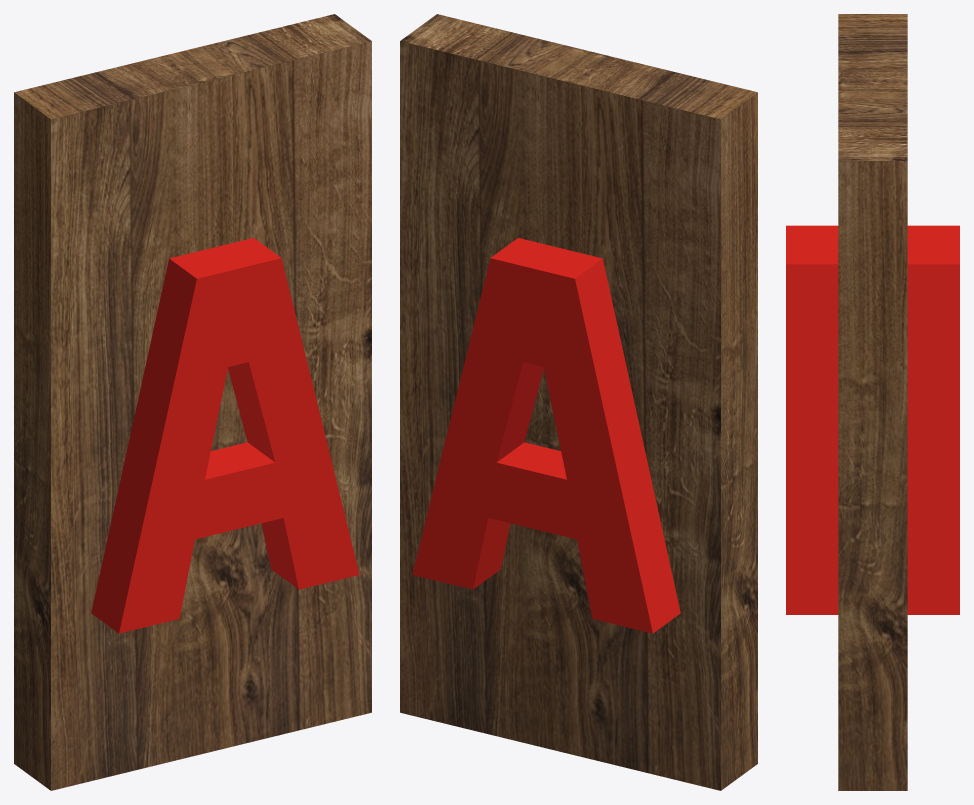
File: wood_A.fbx
The picture shows the model from 3 angles, left to right: view 1: azimuth 30°, elevation 25°; view 2: azimuth 150°, elevation 25°; view 3: azimuth 270°, elevation 25°; orthographic projection. The views are drawn at different scales.
Visible parts, largest first — view 1: Box001, Box003; view 2: Box001, Box003; view 3: Box001, Box003.
Boxes of the visible parts, x1,y1,x2,y2 form: Box001: (14, 14, 371, 790); Box003: (91, 238, 359, 633); Box001: (400, 14, 757, 790); Box003: (412, 238, 680, 633); Box001: (838, 14, 907, 790); Box003: (786, 225, 959, 614).
Size of the model in its own units: 78.74 by 39.37 by 157.
Materials: 2 (2 with a texture image).
